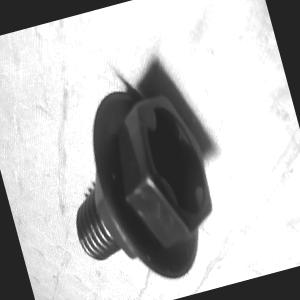parafuso: (42, 70, 232, 300)
